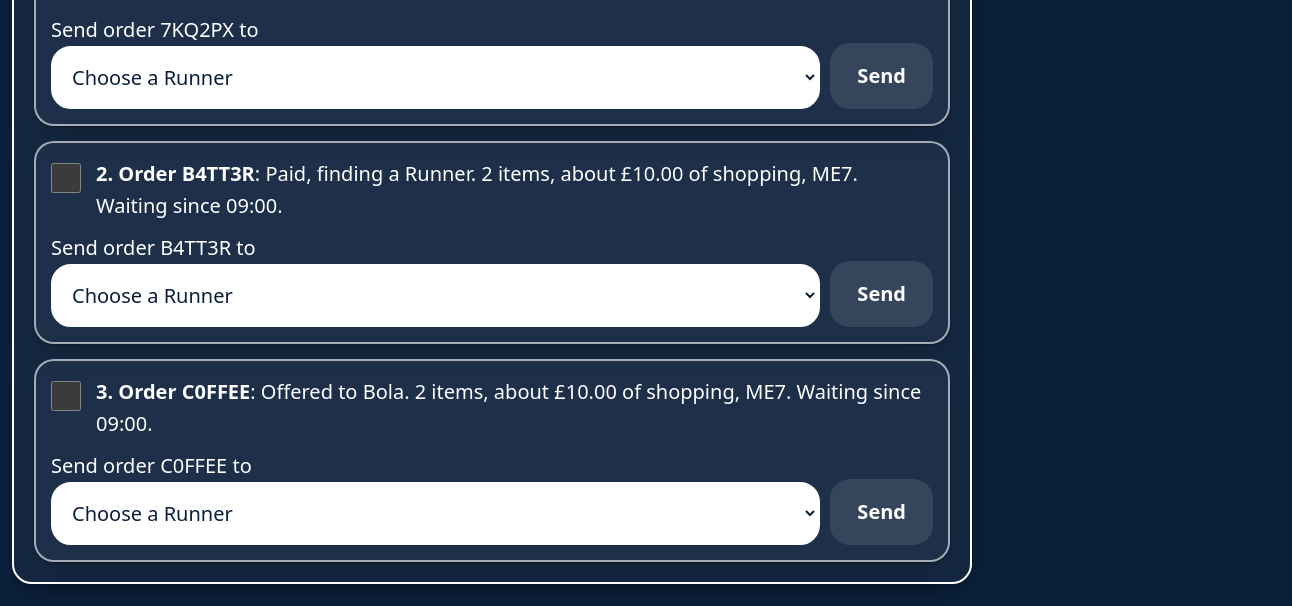
Test: the Allocate jobs view › sends one order on its own from its picker, by keyboard
(page scrolled)
Step 1. Select "Ayesha Khan, off shift, by bicycle" in the dropdown labelled "Send order B4TT3R to" → [436, 295], box 51,264 -> 820,327
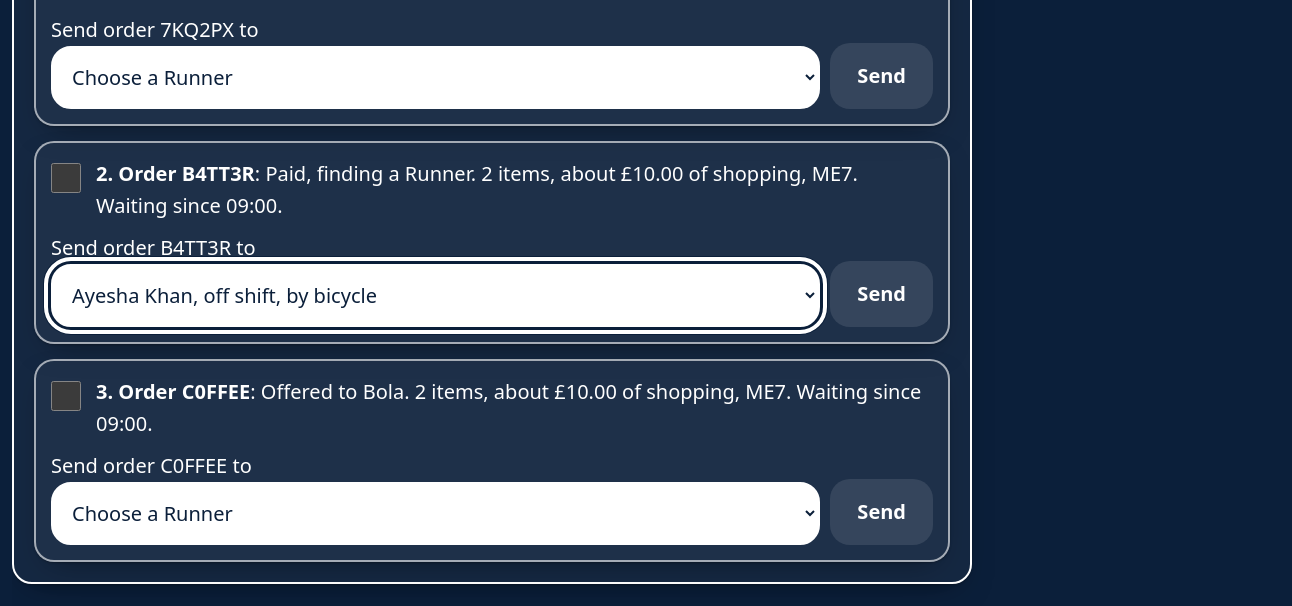
Step 2. Click the button named "Send order B4TT3R" → [882, 294], box 830,261 -> 933,327
(page scrolled)
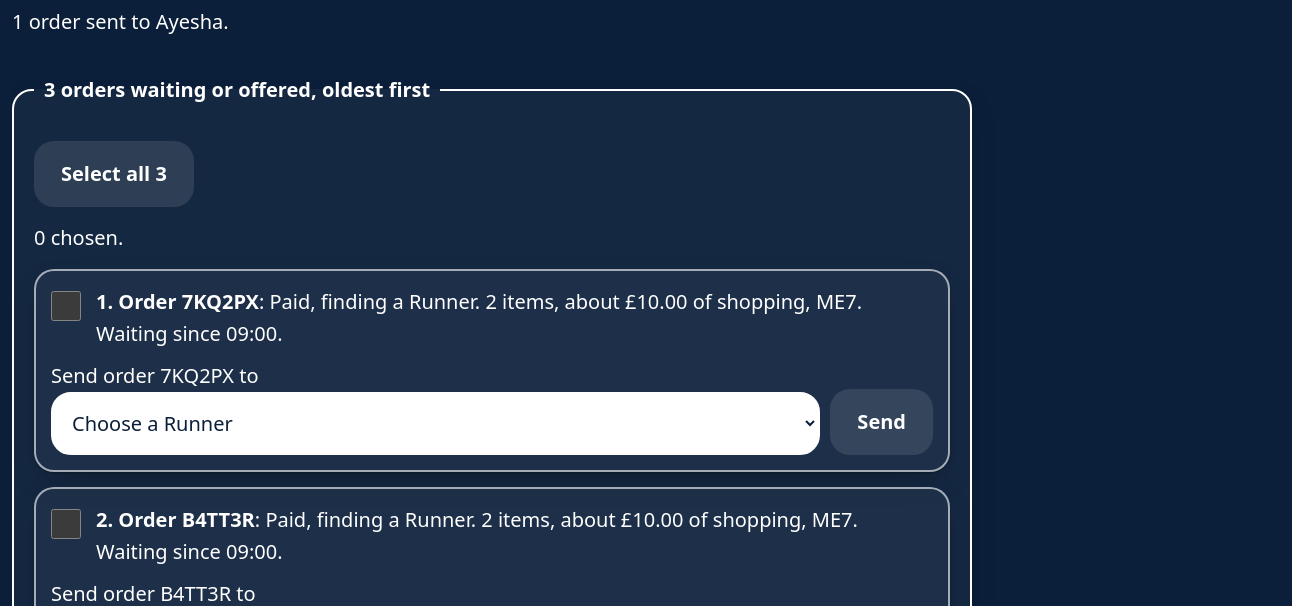
Expected: the message reads "1 order sent to Ayesha.", 12,8 -> 229,35
